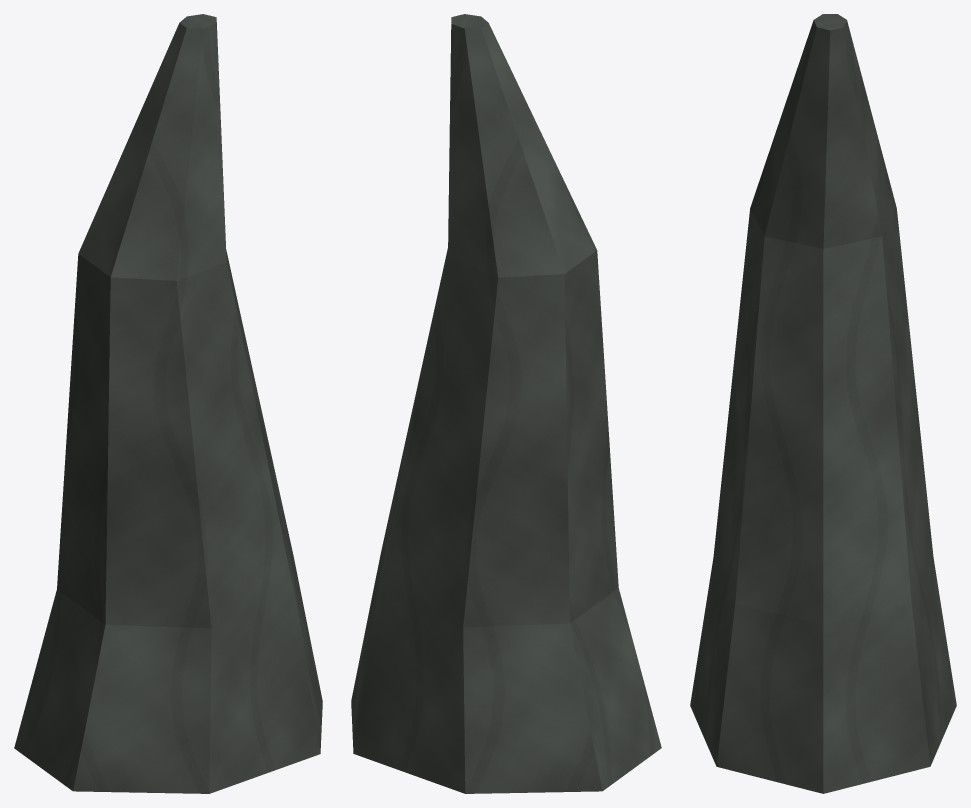
The model's file is Rock_Spire.glb.
The picture shows the model from 3 angles, left to right: view 1: azimuth 30°, elevation 25°; view 2: azimuth 150°, elevation 25°; view 3: azimuth 270°, elevation 25°; orthographic projection.
Parts seen in each view (by area): view 1: Rock_Spire; view 2: Rock_Spire; view 3: Rock_Spire.
Part boxes in pixels (left/top/right/bottom): Rock_Spire: left=14, top=14, right=322, bottom=793; Rock_Spire: left=351, top=14, right=661, bottom=793; Rock_Spire: left=690, top=14, right=956, bottom=793.
Bounding box in the file's own units: 0.9505 × 2.3 × 0.7799.
1 material, 1 textured.
